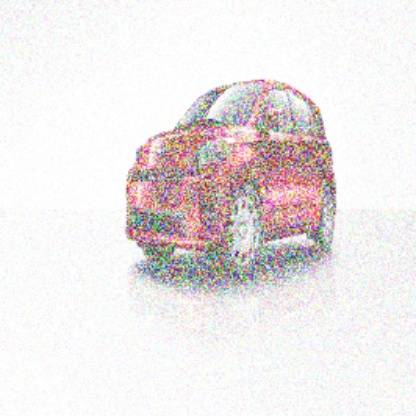Vehicle: (124, 77, 340, 274)
